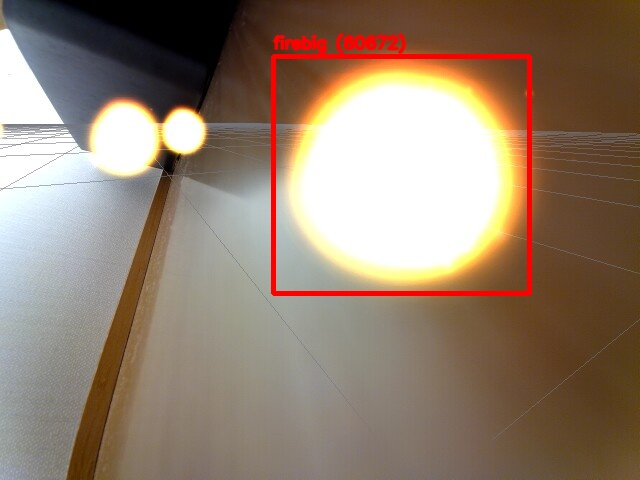firebig: (273, 56, 529, 293)
